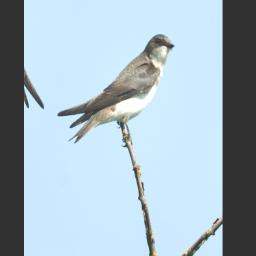Swallow: (52, 0, 177, 177)
